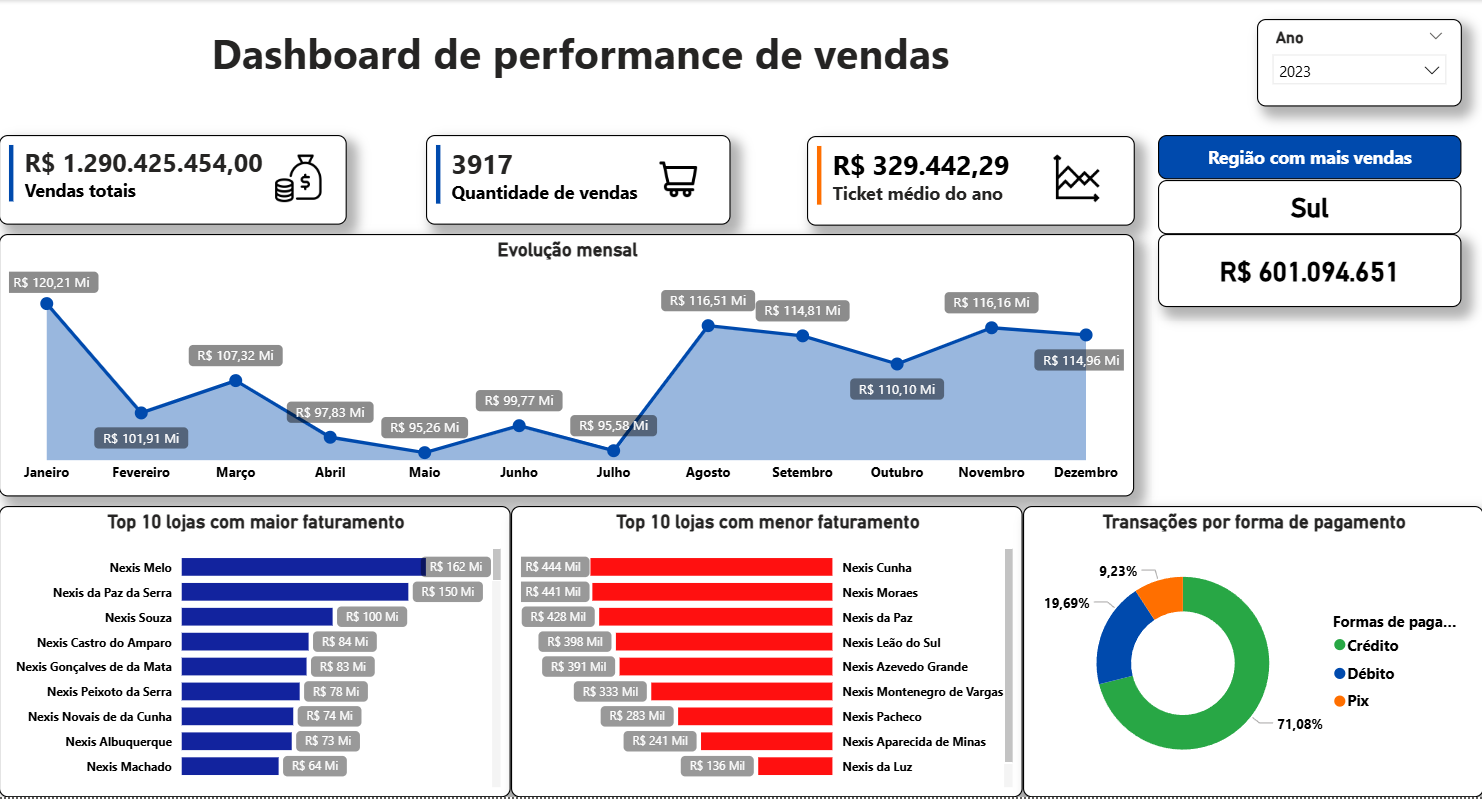

The dashboard page shown, as its layout file describes it:
{"tool":"powerbi","page":{"name":"Página 1","canvas":[1340,720],"ordinal":0},"visuals":[{"type":"multiRowCard","title":"Contratação","fields":{"Values":["Medidas.Vendas_totais"]},"box":[0,122.3,314.3,80.7],"z":0},{"type":"multiRowCard","title":"Ativos","fields":{"Values":["Medidas.Quant_vendas"]},"box":[385.2,122.3,275.1,80.7],"z":1000},{"type":"multiRowCard","title":"Contratação","fields":{"Values":["Medidas.Media_por_vendas"]},"box":[729.3,122.8,295.9,80.7],"z":2000},{"type":"areaChart","title":"Evolução mensal","fields":{"Category":["Dim_tempo.Mes"],"Y":["Medidas.Vendas_totais"]},"box":[0,211.6,1024.7,237.2],"z":3000},{"type":"barChart","title":"Top 10 lojas com maior faturamento","fields":{"Category":["Dim_lojas.nome_loja"],"Y":["Medidas.Vendas_totais"]},"box":[0,457.3,462.2,262.9],"z":4000},{"type":"barChart","title":"Top 10 lojas com menor faturamento","fields":{"Category":["Dim_lojas.nome_loja"],"Y":["Medidas.Vendas_totais"]},"box":[462.2,457.3,462.2,262.9],"z":5000},{"type":"donutChart","title":"Transações por forma de pagamento","fields":{"Category":["Ft_vendas.forma_pagamento"],"Y":["Medidas.Vendas_totais"]},"box":[924.5,457.3,415.8,262.9],"z":6000},{"type":"slicer","title":"Folha Salarial","fields":{"Values":["Dim_tempo.Ano"]},"box":[1136,17.1,184.6,79.5],"z":7000},{"type":"card","title":"Folha Salarial","fields":{"Values":["Medidas.Valor Estado Mais Vendido"]},"box":[1046.7,211.6,273.9,66],"z":8000},{"type":"card","title":"Região com mais vendas","fields":{"Values":["Medidas.Estado Mais Vendido"]},"box":[1046.7,162.6,273.9,48.9],"z":9000},{"type":"textbox","box":[1046.7,122.3,273.9,40.4],"z":10000},{"type":"textbox","box":[187.1,17.1,737.4,62.4],"z":11000},{"type":"image","box":[239.7,134.5,62.4,52.6],"z":11501},{"type":"image","box":[582.1,135.7,62.4,52.6],"z":12002},{"type":"image","box":[941.6,134.5,62.4,52.6],"z":13003}]}

Visuals, with their boxes in screenshot pixels (x1, y1, x2, y2), scaled from the page's 1340x720 canvas onto the 1482x799 screenshot:
"Contratação" multiRowCard: bbox=[0, 136, 348, 225]
"Ativos" multiRowCard: bbox=[426, 136, 730, 225]
"Contratação" multiRowCard: bbox=[807, 136, 1134, 226]
"Evolução mensal" areaChart: bbox=[0, 235, 1133, 498]
"Top 10 lojas com maior faturamento" barChart: bbox=[0, 507, 511, 798]
"Top 10 lojas com menor faturamento" barChart: bbox=[511, 507, 1022, 798]
"Transações por forma de pagamento" donutChart: bbox=[1022, 507, 1481, 798]
"Folha Salarial" slicer: bbox=[1256, 19, 1461, 107]
"Folha Salarial" card: bbox=[1158, 235, 1461, 308]
"Região com mais vendas" card: bbox=[1158, 180, 1461, 235]
textbox: bbox=[1158, 136, 1461, 181]
textbox: bbox=[207, 19, 1022, 88]
image: bbox=[265, 149, 334, 208]
image: bbox=[644, 151, 713, 209]
image: bbox=[1041, 149, 1110, 208]
